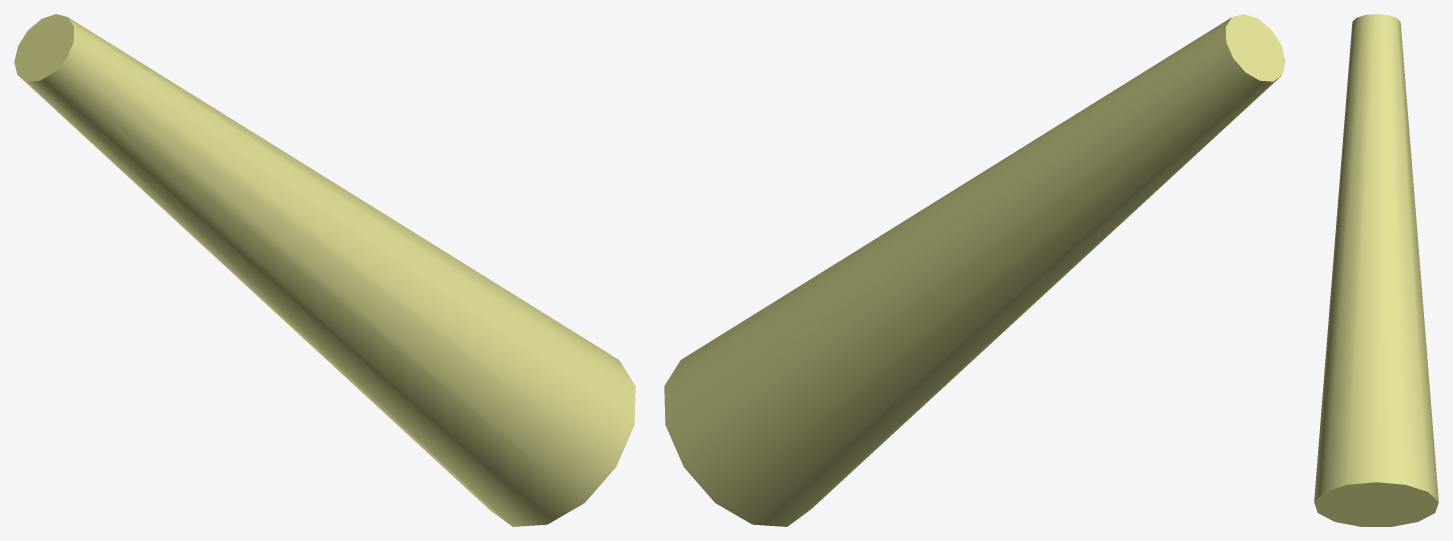
File: sun ray.fbx
3 renders of one model, left to right at view 1: azimuth 30°, elevation 25°; view 2: azimuth 150°, elevation 25°; view 3: azimuth 270°, elevation 25°, orthographic. The views are drawn at different scales.
Parts seen in each view (by area): view 1: sun_ray1; view 2: sun_ray1; view 3: sun_ray1.
Part boxes in pixels (left/top/right/bottom): sun_ray1: left=14, top=14, right=635, bottom=526; sun_ray1: left=664, top=14, right=1285, bottom=526; sun_ray1: left=1314, top=14, right=1438, bottom=526.
Size of the model in its own units: 84.63 by 82.15 by 24.42.
